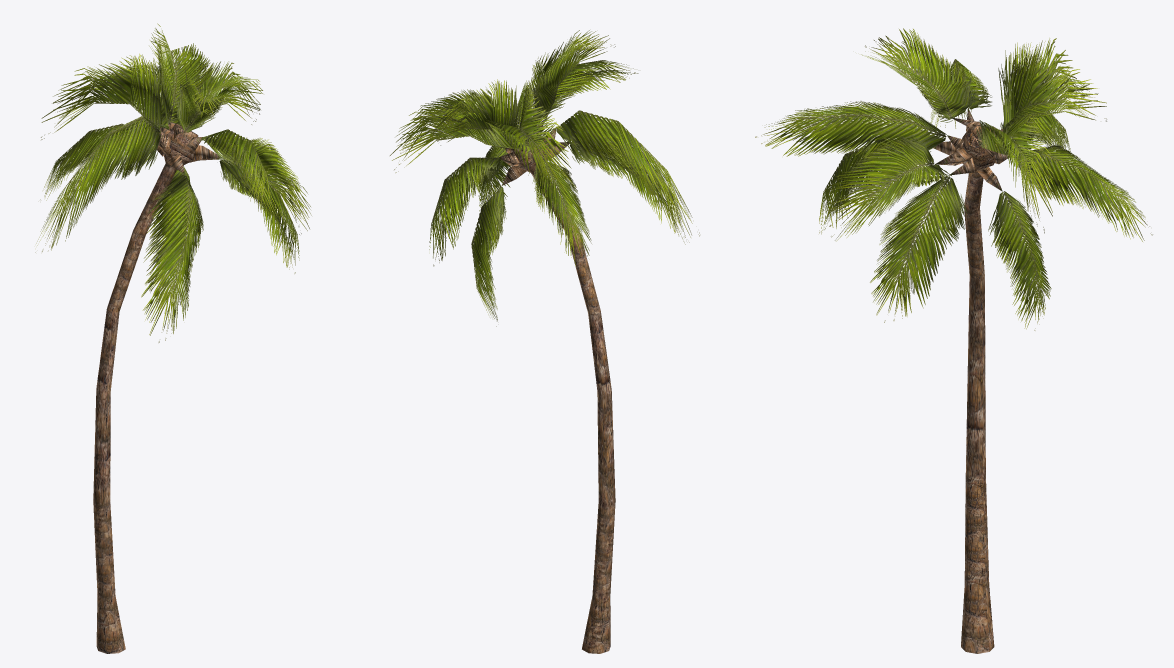
File: Palm01.FBX
3 views of the same model, side by side, from view 1: azimuth 30°, elevation 25°; view 2: azimuth 150°, elevation 25°; view 3: azimuth 270°, elevation 25° (orthographic). The views are drawn at different scales.
Parts seen in each view (by area): view 1: Palm; view 2: Palm; view 3: Palm.
Boxes of the visible parts, bbox=[...] form: Palm: bbox=[35, 23, 311, 653]; Palm: bbox=[390, 30, 699, 653]; Palm: bbox=[755, 28, 1152, 653].
Bounding box in the file's own units: 3.04 × 5.67 × 3.32.
1 material, 1 textured.
